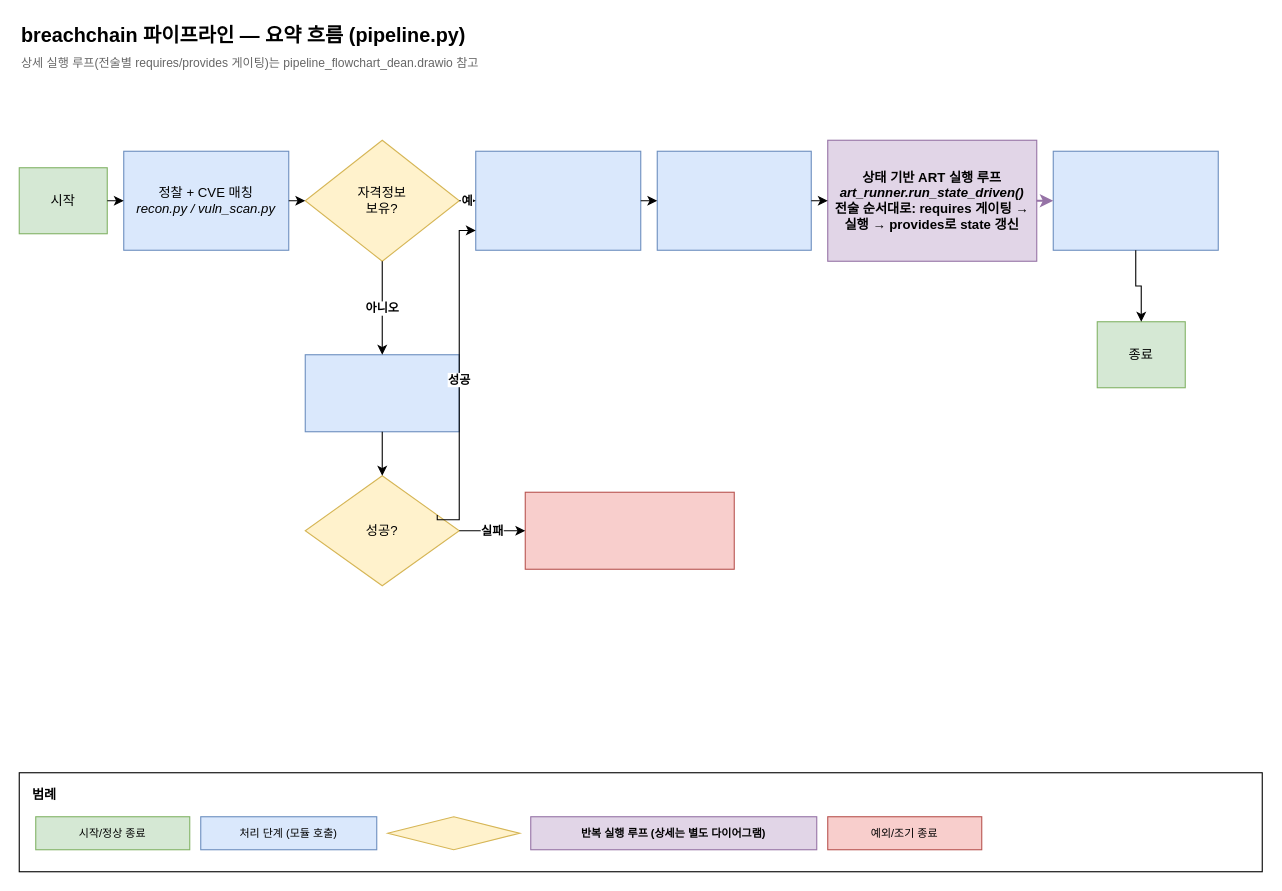
Some shapes in this 1282 by 891 pixel diagram are drawn without their labels. Here are the shapes that lost their labels. From the top down, the box of each, then its label:
(475, 150, 641, 250): 접속 확인 + 대상 식별 check_connection() / device_fingerprint.py
(656, 150, 811, 250): KISA CIIP 진단 kisa_runner.py (Unix 67개 항목)
(1052, 150, 1218, 250): 통합 리포트 생성 report.py
(304, 354, 459, 432): 브루트포싱 bruteforce.py
(524, 491, 734, 569): 종료: 정찰/브루트포싱 결과만 리포트 후 종료
(387, 816, 520, 850): 분기 판단
